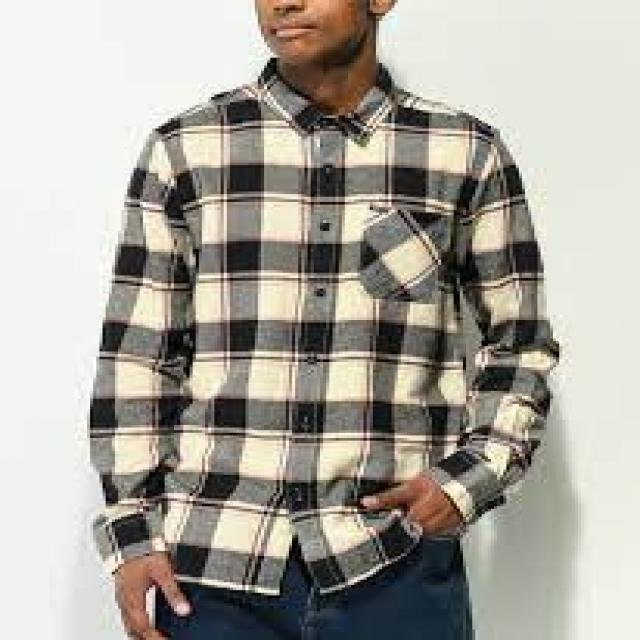plaid: (78, 83, 568, 588)
